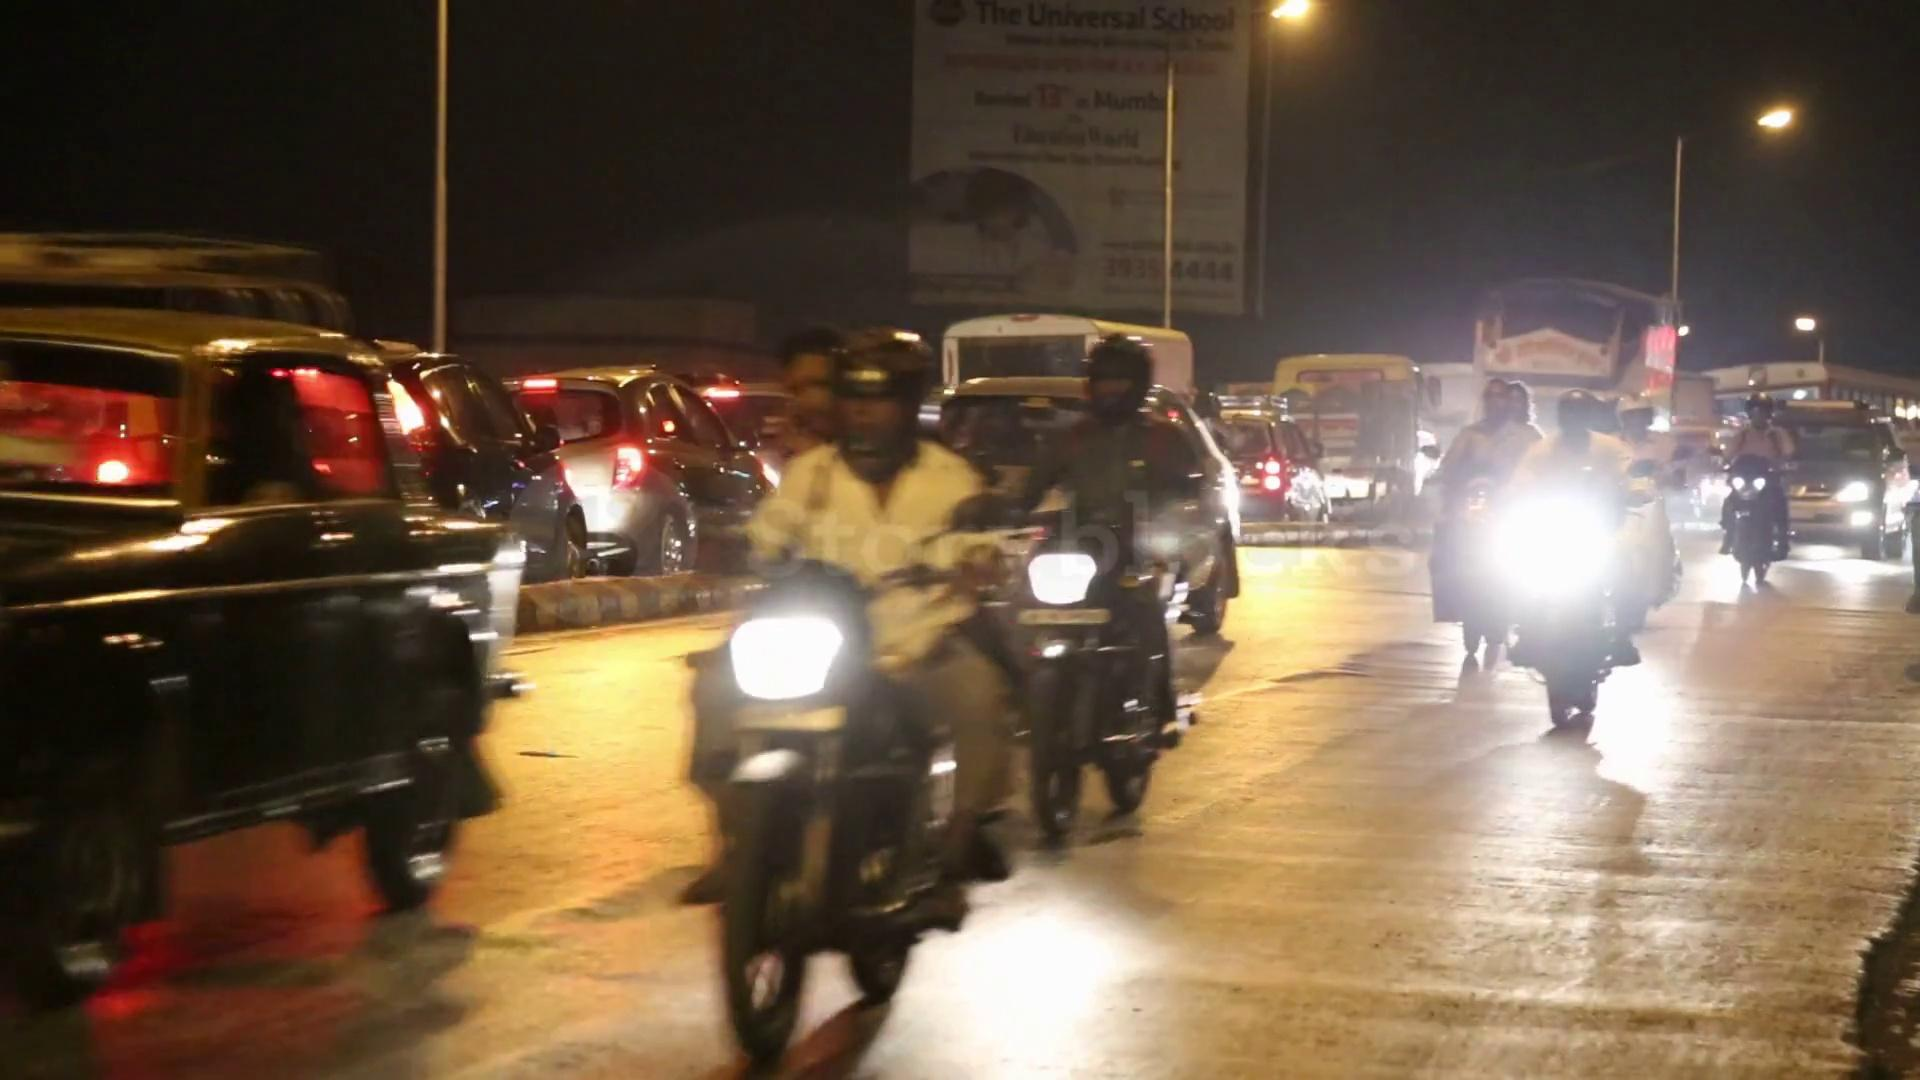rider: (683, 323, 987, 1046), (1030, 320, 1177, 840), (1413, 363, 1519, 689), (1540, 381, 1629, 734), (1720, 392, 1797, 573)
with_helmate: (839, 351, 924, 477), (1074, 329, 1149, 420), (1553, 389, 1591, 439), (1743, 390, 1773, 431)
without_helmate: (770, 324, 833, 437), (1466, 373, 1507, 420)
